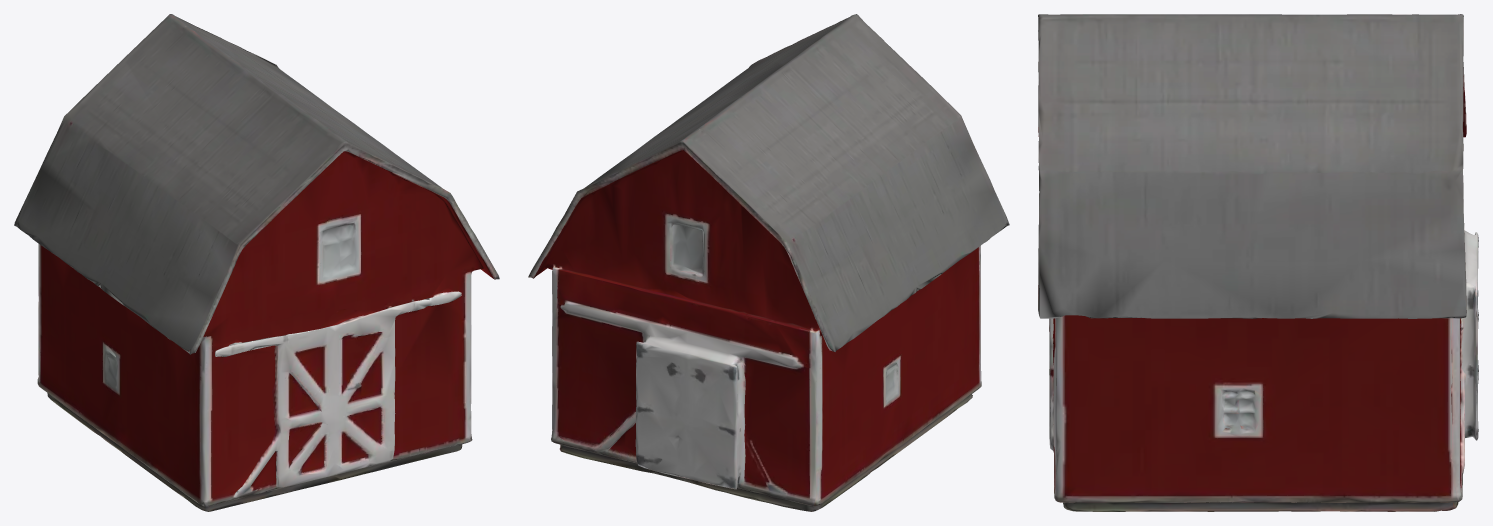
The model's file is barn.glb.
The picture shows the model from 3 angles, left to right: view 1: azimuth 30°, elevation 25°; view 2: azimuth 150°, elevation 25°; view 3: azimuth 270°, elevation 25°; orthographic projection. The views are drawn at different scales.
Bounding box in the file's own units: 0.9311 × 0.9967 × 0.947.
1 material, 1 textured.
